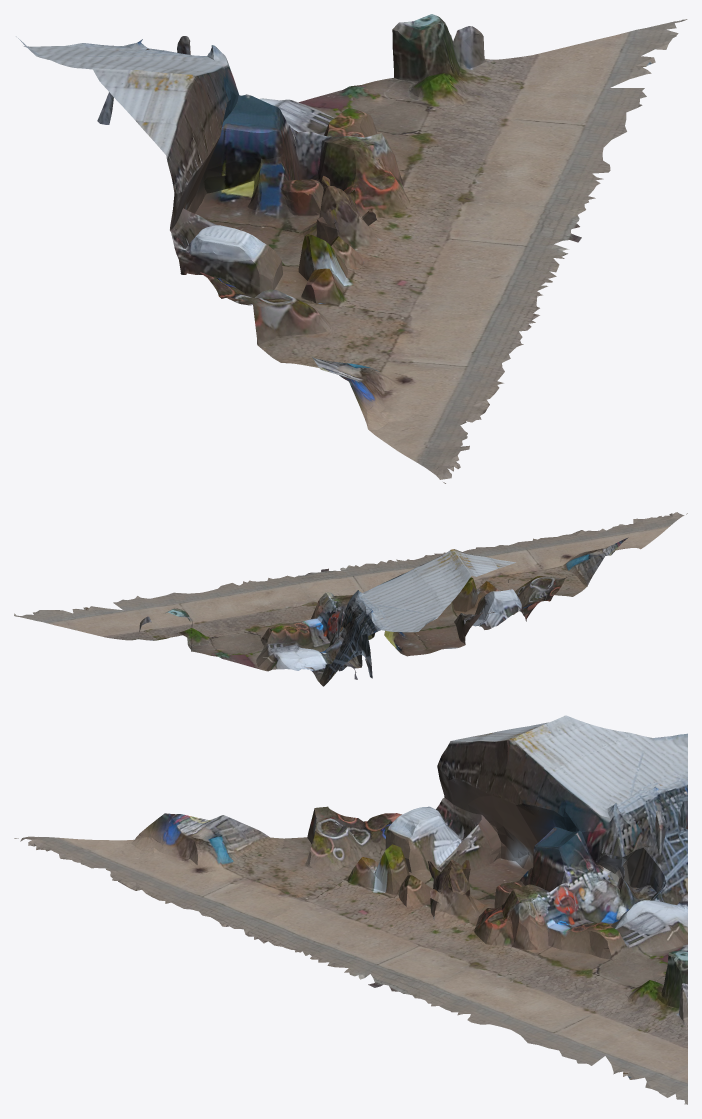
3 views of the same model, one above another, from view 1: azimuth 30°, elevation 25°; view 2: azimuth 150°, elevation 25°; view 3: azimuth 270°, elevation 25° (orthographic). The views are drawn at different scales.
Bounding box in the file's own units: 13.37 × 3.32 × 14.89.
2 materials, 2 textured.
